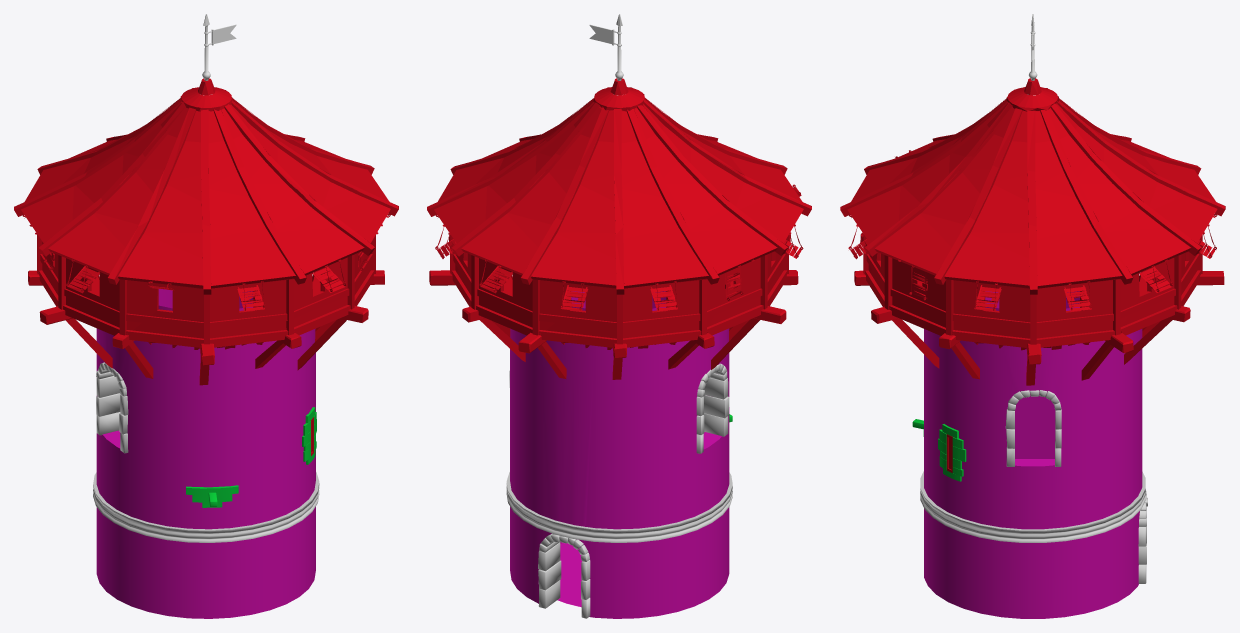
The model's file is Tower_4 (1).fbx.
The picture shows the model from 3 angles, left to right: view 1: azimuth 30°, elevation 25°; view 2: azimuth 150°, elevation 25°; view 3: azimuth 270°, elevation 25°; orthographic projection.
Visible parts, largest first — view 1: Group_4.010, Tower_1.004, Group_2, Group_2.007, Group_4.011; view 2: Group_4.010, Tower_1.004, Group_4.011; view 3: Group_4.010, Tower_1.004, Group_2.007.
Boxes of the visible parts, box(x1,y1,x2,y2) form: Group_4.010: box(14, 78, 398, 385); Tower_1.004: box(93, 289, 319, 618); Group_2: box(186, 485, 238, 507); Group_2.007: box(302, 407, 316, 464); Group_4.011: box(200, 14, 236, 95); Group_4.010: box(427, 78, 811, 379); Tower_1.004: box(506, 291, 732, 618); Group_4.011: box(589, 14, 623, 95); Group_4.010: box(840, 78, 1225, 385); Tower_1.004: box(920, 291, 1147, 618); Group_2.007: box(938, 424, 966, 481).
Bounding box in the file's own units: 1135 × 1813 × 1133.
